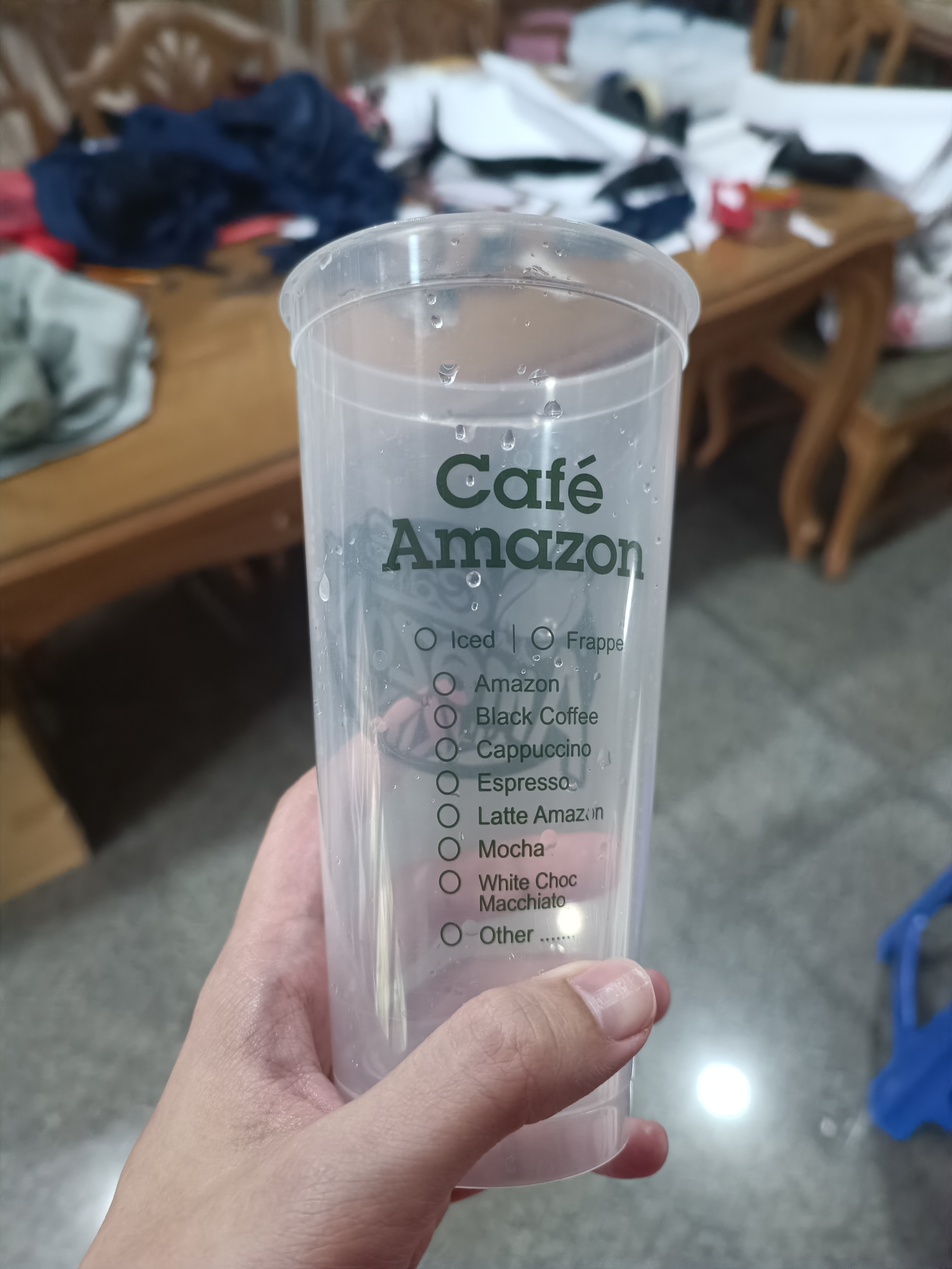plastic: (198, 179, 733, 1192)
